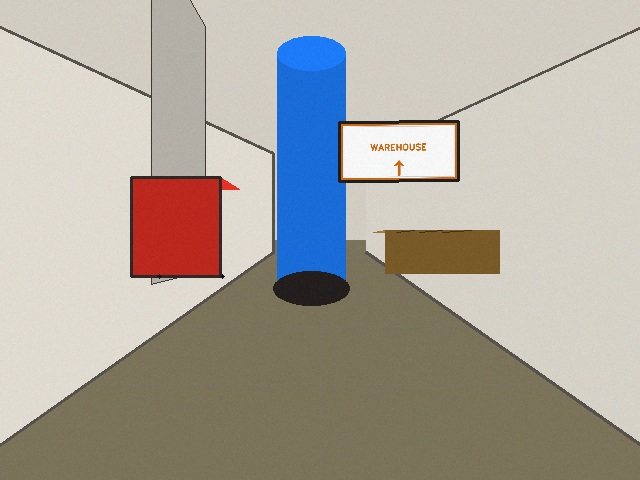cart: (131, 177, 239, 276)
directional_sign: (339, 121, 458, 181)
pallet: (373, 230, 499, 273)
person: (277, 53, 345, 288)
